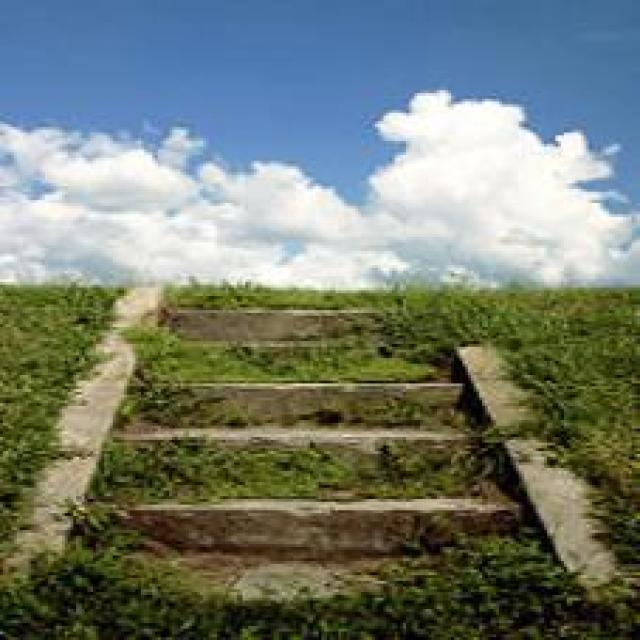upstair: (134, 291, 466, 562)
